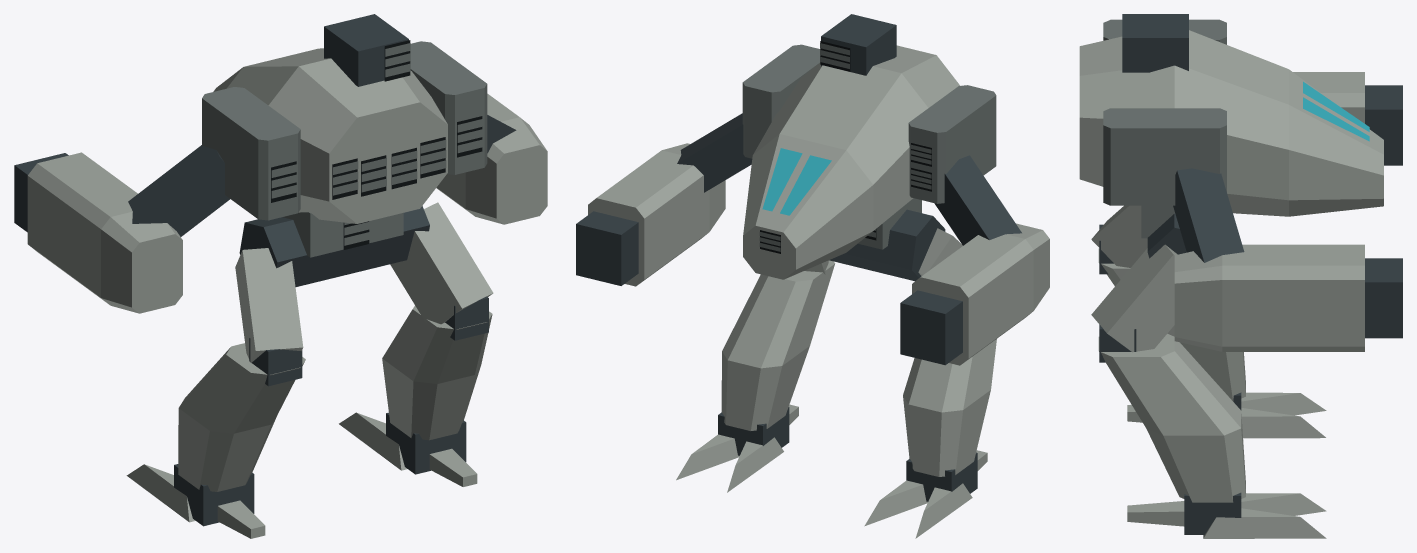
File: marauder.glb
The picture shows the model from 3 angles, left to right: view 1: azimuth 30°, elevation 25°; view 2: azimuth 150°, elevation 25°; view 3: azimuth 270°, elevation 25°; orthographic projection. The views are drawn at different scales.
Visible parts, largest first — view 1: LT, LL-shin, RL-shin, RT, LA@elbow, CT, LA@forearm, RA@elbow, RL, pelvis, LL, LA (+12 smaller); view 2: LT, RL-shin, CT, LL-shin, RT, LA@forearm, RA@forearm, LA, LA@hand, RA@hand, pelvis, RA (+7 smaller); view 3: RT, RL-shin, RA@forearm, RA@elbow, CT, RL, RA, RL-foot, LL-foot, RA@hand, LL-shin, LA@hand (+5 smaller).
Part boxes in pixels (x1,y1,x2,y2): LT: (202, 63, 357, 257); LL-shin: (174, 338, 305, 538); RL-shin: (382, 296, 492, 486); RT: (312, 14, 487, 238); LA@elbow: (76, 188, 182, 313); CT: (213, 50, 419, 253); LA@forearm: (27, 152, 133, 285); RA@elbow: (450, 99, 547, 224); RL: (390, 202, 493, 324); pelvis: (239, 206, 429, 286); LL: (235, 248, 303, 362); LA: (128, 145, 229, 236); LT: (797, 55, 996, 268); RL-shin: (718, 260, 835, 455); CT: (743, 45, 935, 279); LL-shin: (903, 339, 996, 501); RT: (742, 14, 896, 232); LA@forearm: (912, 240, 1029, 365); RA@forearm: (588, 153, 700, 286); LA: (934, 155, 1021, 245); LA@hand: (900, 290, 962, 365); RA@hand: (576, 211, 638, 285); pelvis: (829, 209, 945, 281); RA: (677, 113, 752, 192); RT: (1079, 14, 1381, 238); RL-shin: (1098, 324, 1245, 534); RA@forearm: (1231, 244, 1364, 351); RA@elbow: (1174, 244, 1269, 351); CT: (1079, 35, 1383, 213); RL: (1091, 244, 1177, 352); RA: (1173, 168, 1244, 262); RL-foot: (1203, 493, 1326, 538); LL-foot: (1241, 392, 1326, 438); RA@hand: (1365, 258, 1402, 338); LL-shin: (1098, 224, 1245, 422); LA@hand: (1365, 85, 1402, 165).
Size of the model in its own units: 48.03 by 50.4 by 32.49.
